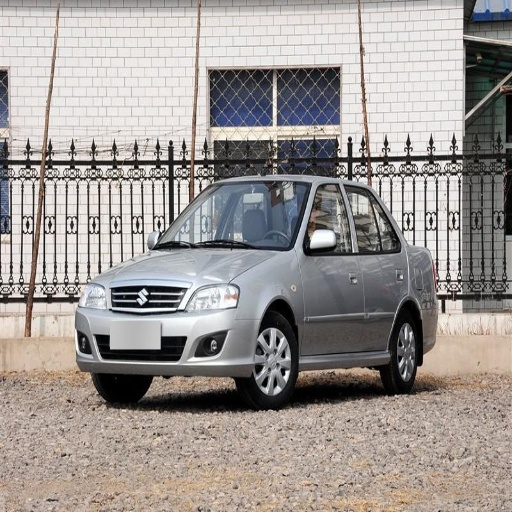front_bumper: (75, 284, 260, 374)
front_glass: (154, 181, 311, 250)
front_left_door: (301, 184, 364, 355)
